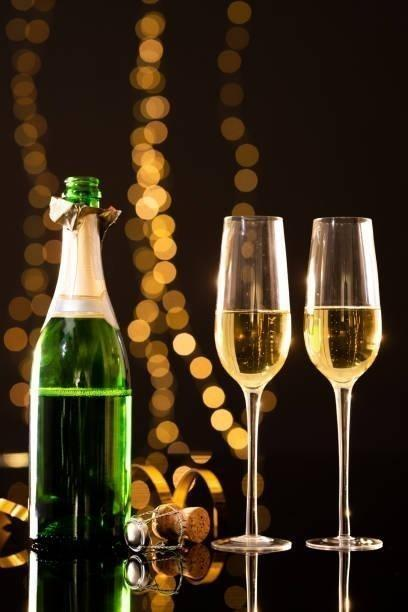bottle-glass: (25, 173, 136, 556)
glass-wine: (206, 214, 298, 556), (299, 216, 389, 552)
